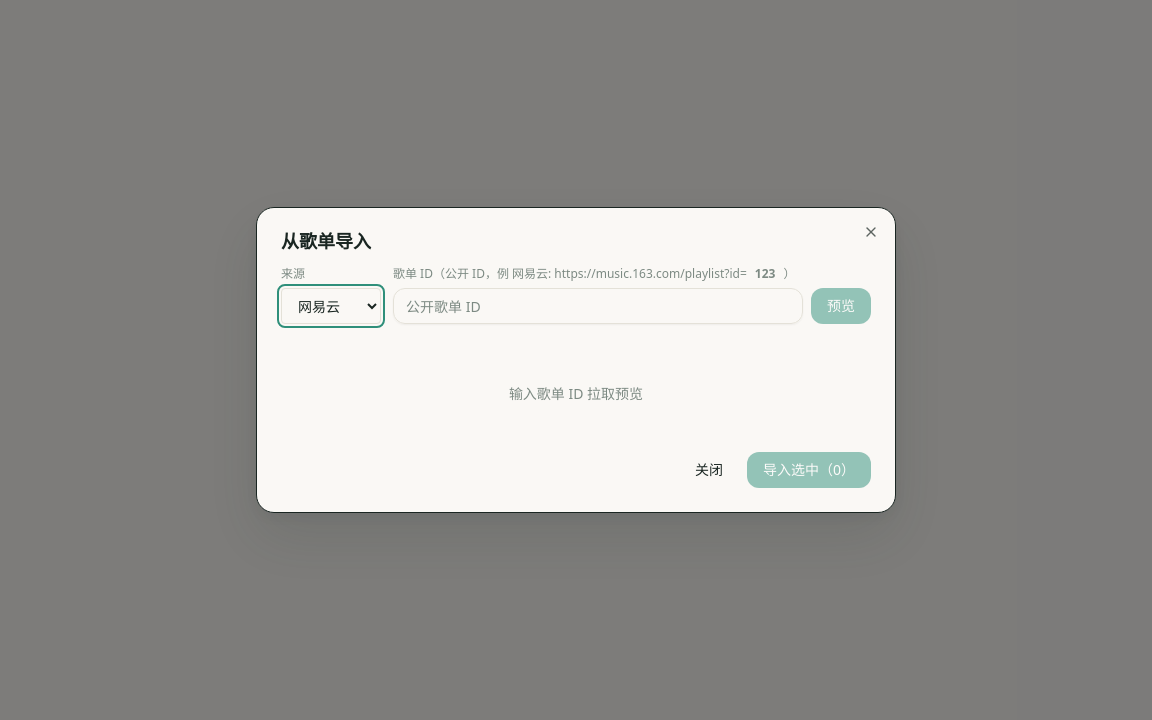
it: PlaylistImportDialog › 预览后展示 playlist + 歌曲列表（默认全选）
Type "123" into the field with test id "playlist-id-input" at (598, 306), box [393,288,803,324]
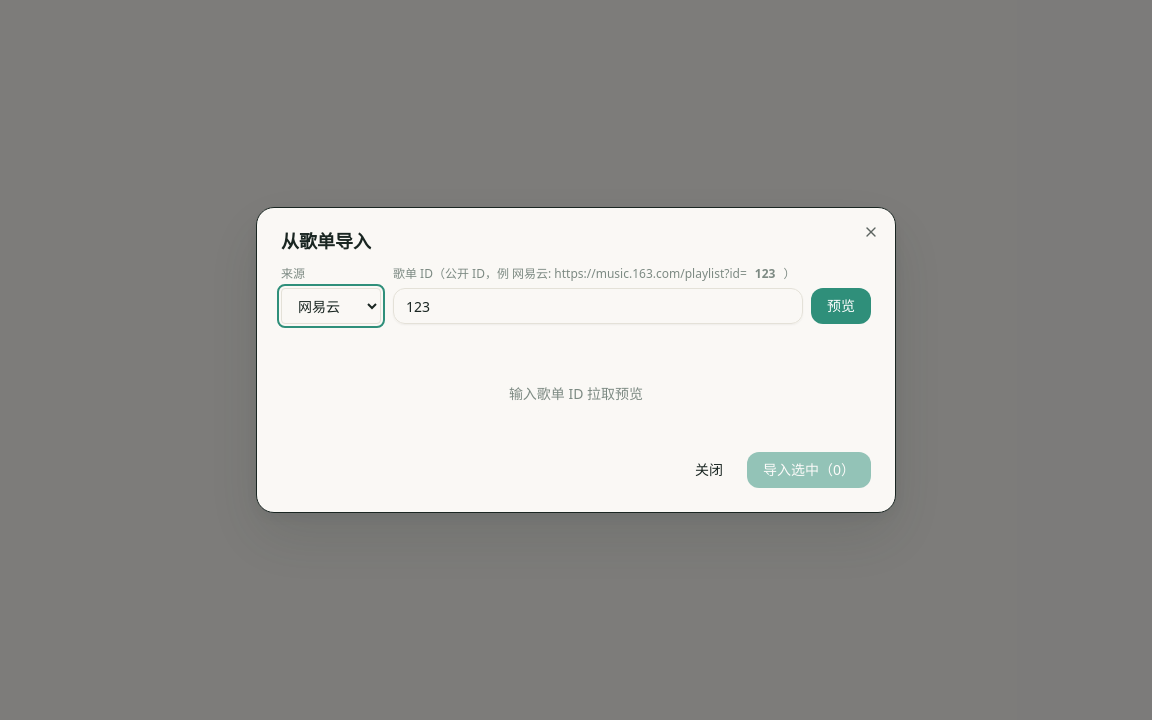
Click the button with test id "preview-button" at (841, 306), box [811,288,871,324]
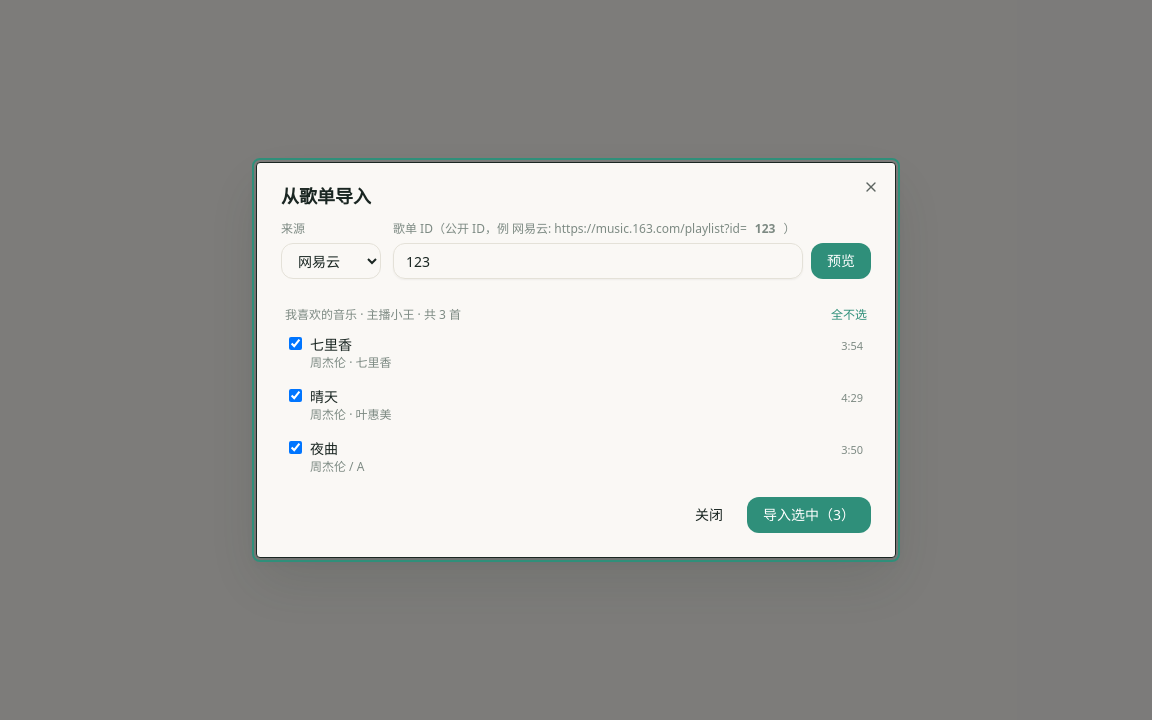
Expected: the list with test id "song-list" is shown, [281,329,871,481]
Expected: the number of labels with test id "song-row" is 3, [281,329,871,377]; [281,381,871,429]; [281,433,871,481]
